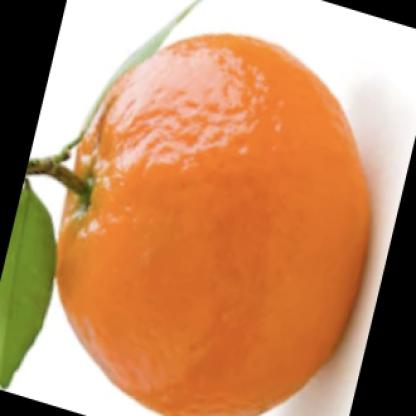fresh: (54, 34, 371, 416)
